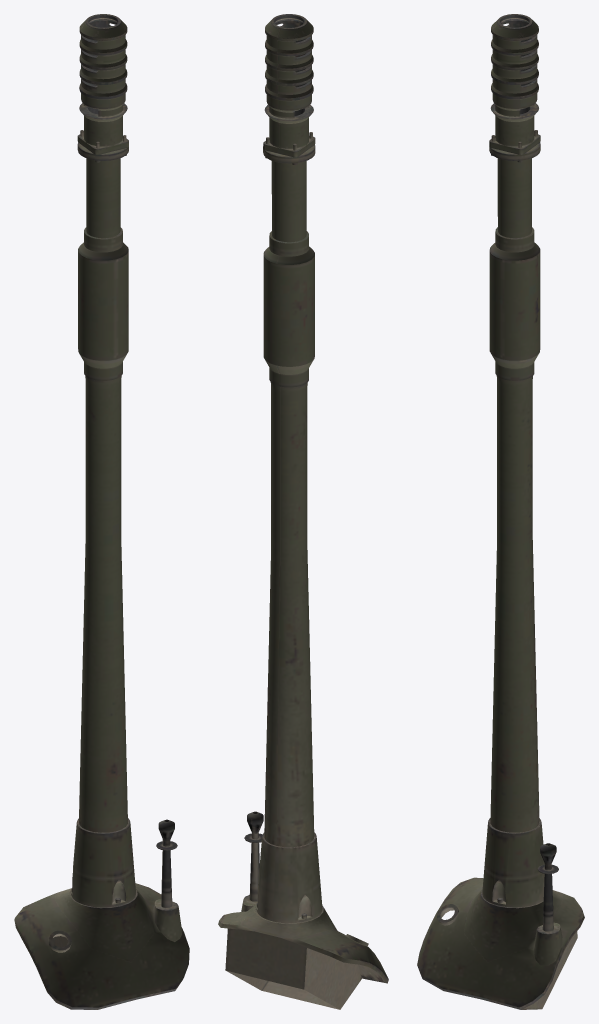
The model's file is Gun_03.glb.
3 renders of one model, left to right at view 1: azimuth 30°, elevation 25°; view 2: azimuth 150°, elevation 25°; view 3: azimuth 330°, elevation 25°, orthographic.
Parts seen in each view (by area): view 1: set_0_group_0; view 2: set_0_group_0; view 3: set_0_group_0.
Part boxes in pixels (bbox=[...]): set_0_group_0: bbox=[14, 14, 189, 1009]; set_0_group_0: bbox=[218, 14, 388, 1009]; set_0_group_0: bbox=[417, 14, 584, 1009].
Bounding box in the file's own units: 0.7626 × 5.14 × 0.5619.
Materials: 1 (1 with a texture image).
